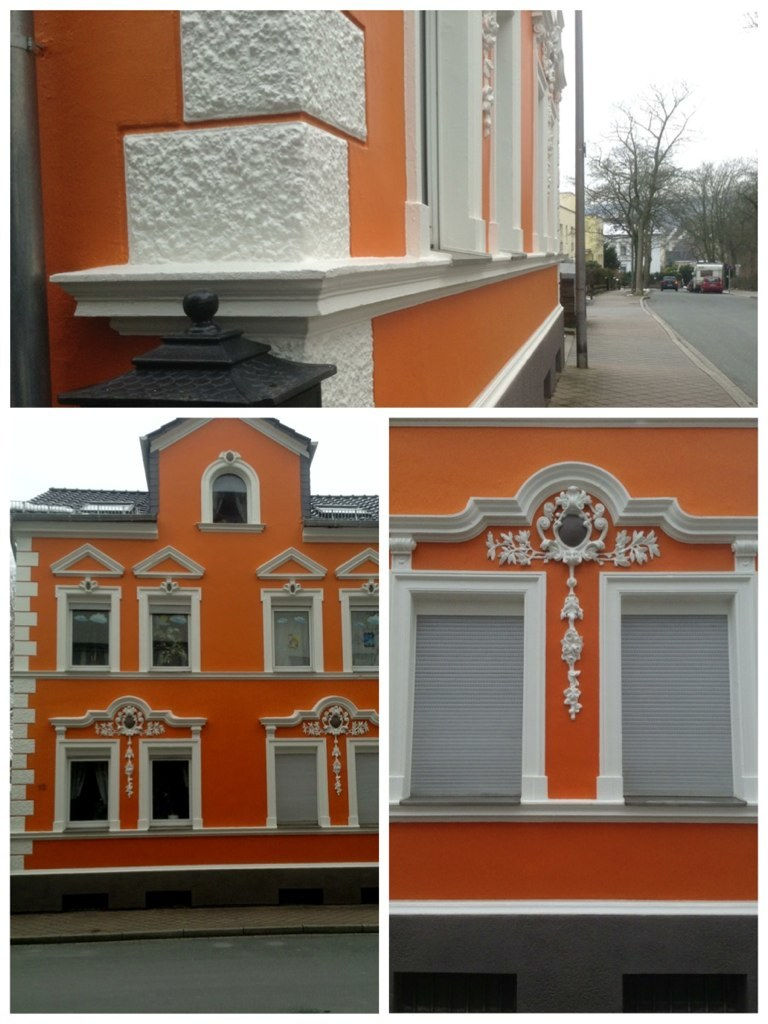Window: (621, 611, 745, 804), (415, 604, 525, 807), (146, 596, 194, 671), (266, 600, 316, 671), (66, 593, 110, 667), (64, 756, 105, 829), (153, 752, 192, 825), (277, 751, 316, 823), (348, 595, 380, 667), (353, 751, 376, 832)
